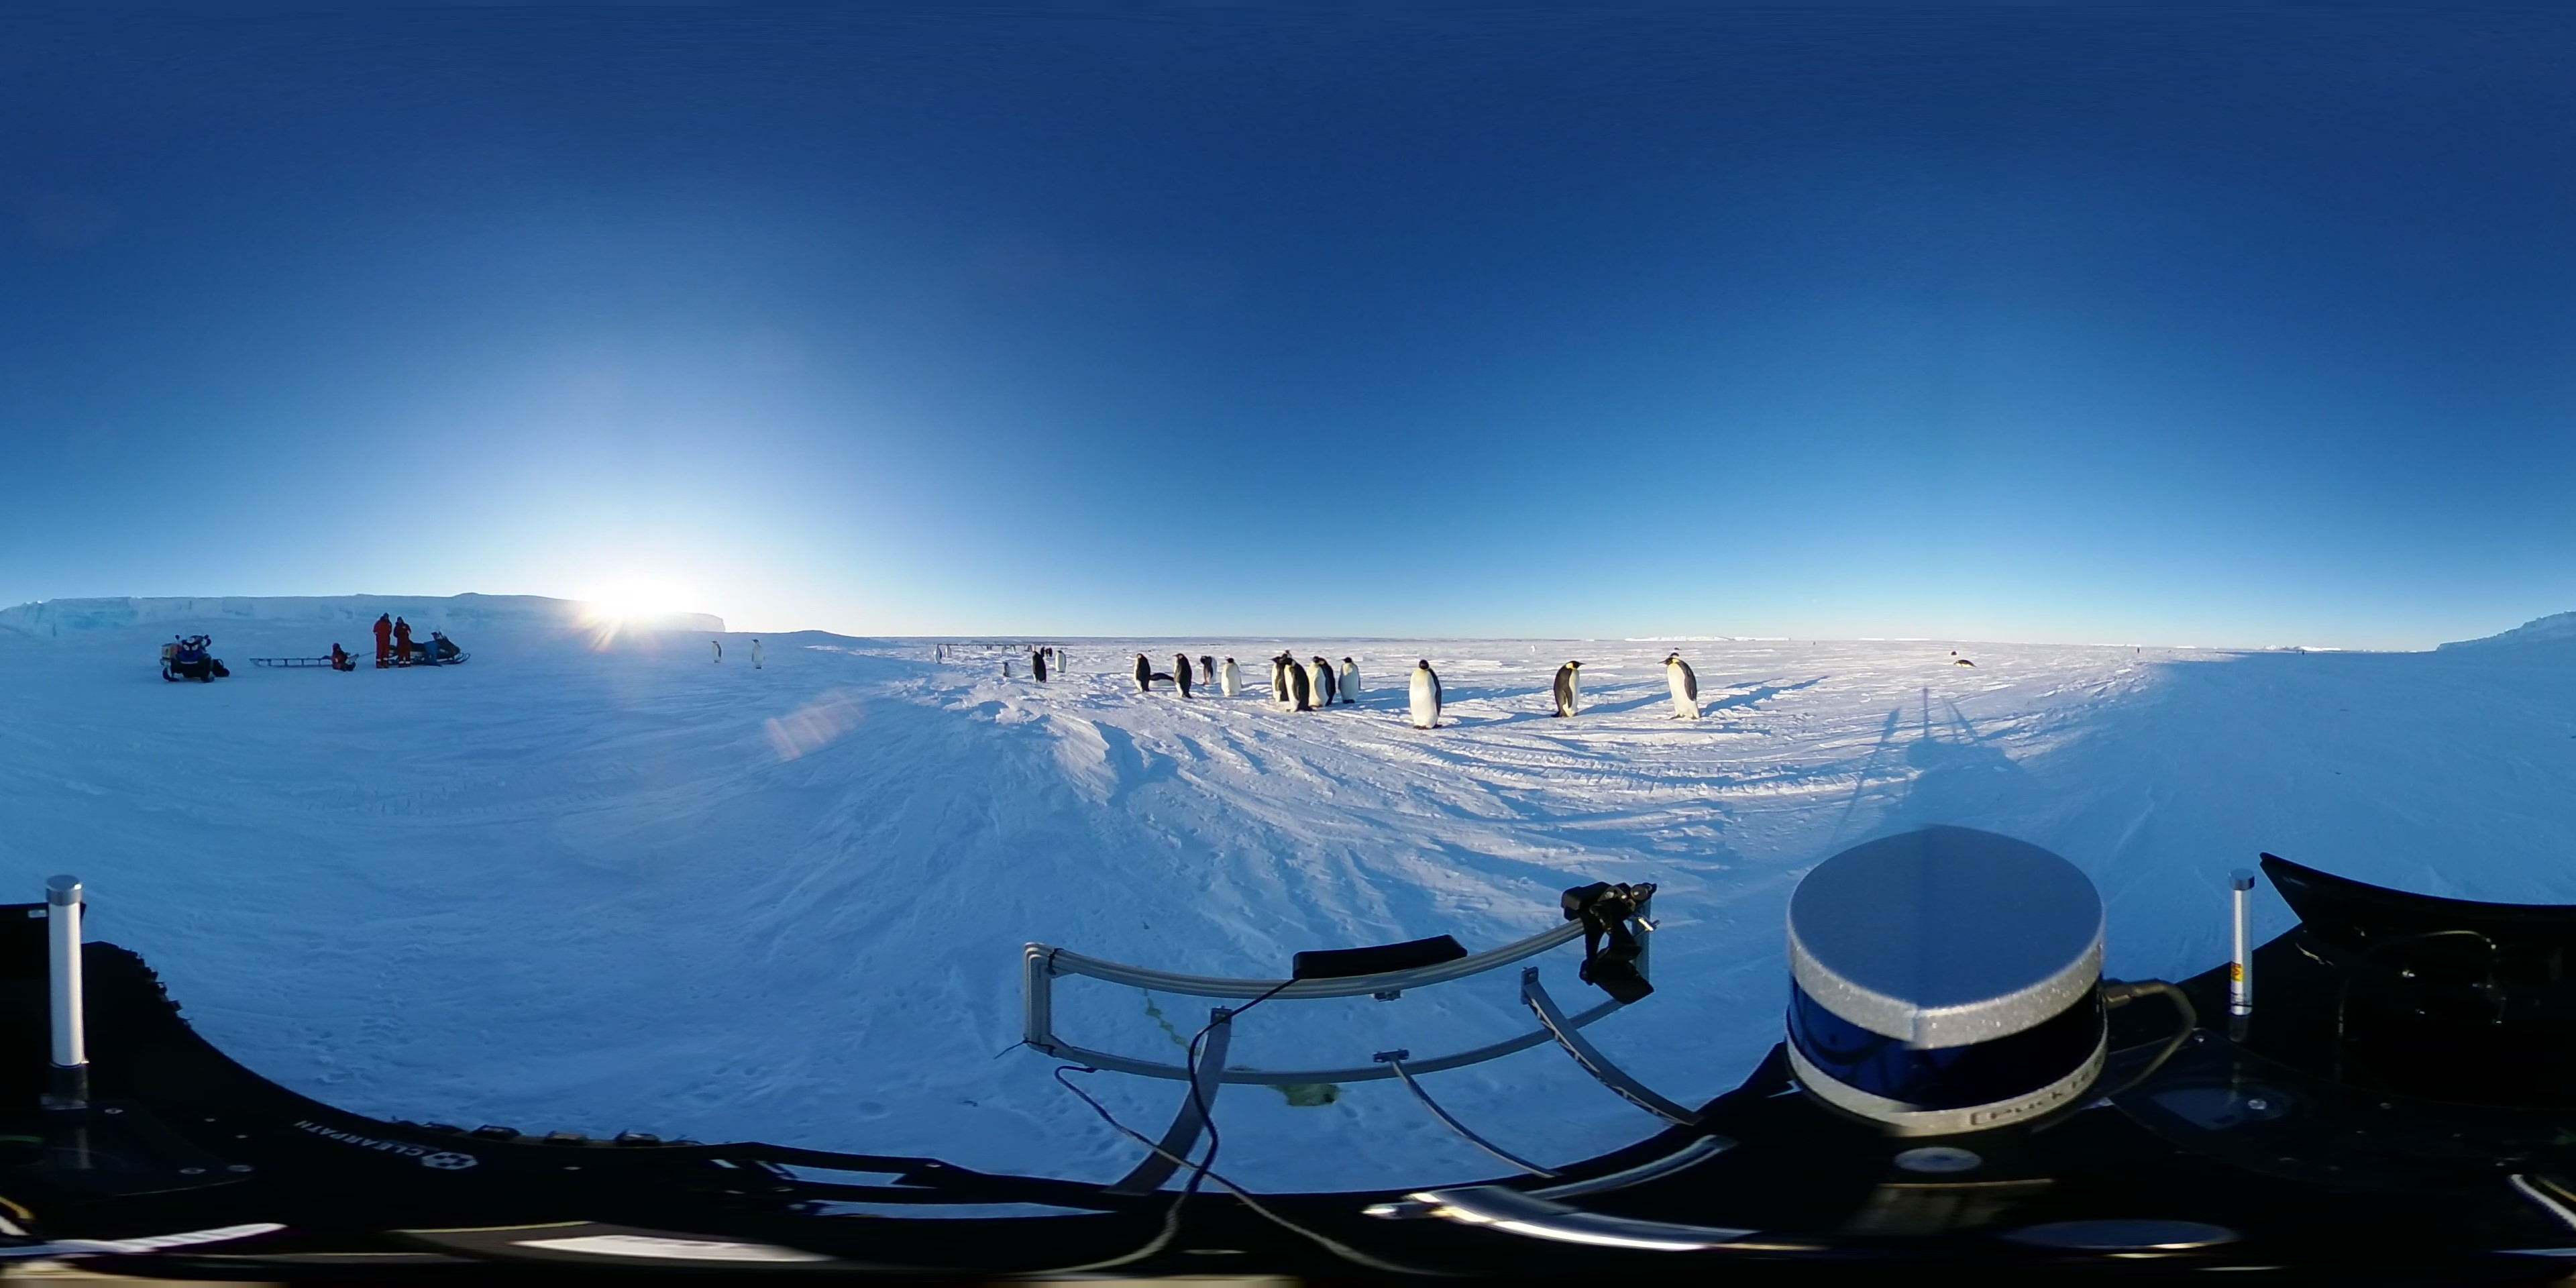adult_standing_penguin: (1658, 655, 1705, 726), (1405, 655, 1447, 733), (1278, 657, 1316, 715), (1552, 659, 1587, 721), (1336, 655, 1365, 706), (1171, 651, 1196, 703), (1219, 655, 1247, 700), (1132, 651, 1153, 695)
researcher: (371, 609, 394, 670), (327, 641, 358, 677), (391, 614, 412, 667)
